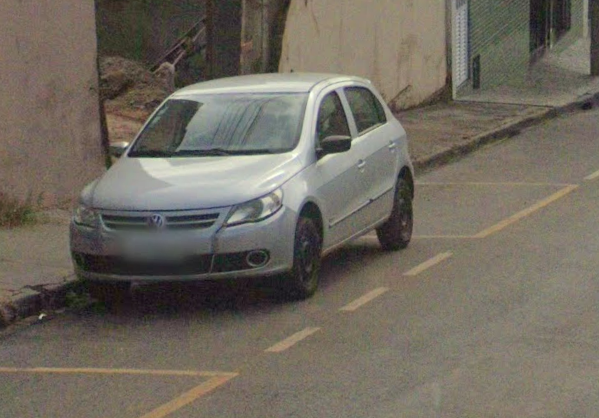car: (64, 54, 421, 307)
